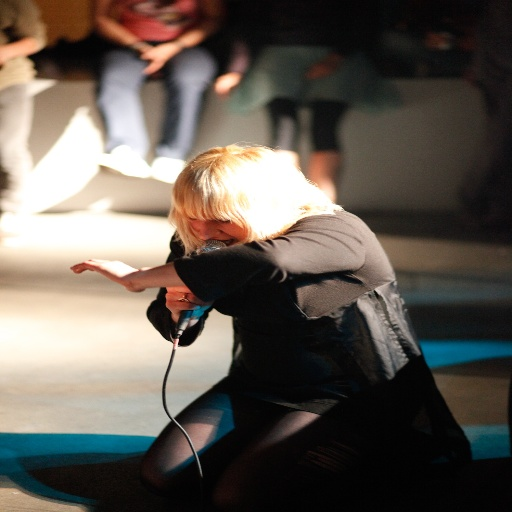hand: (63, 256, 187, 301), (161, 284, 210, 322), (141, 41, 182, 75), (210, 72, 245, 94), (303, 60, 335, 82)
